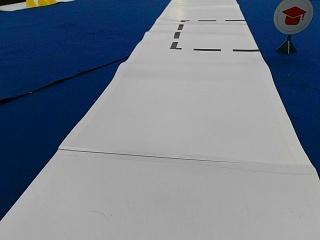school: (273, 1, 312, 33)
